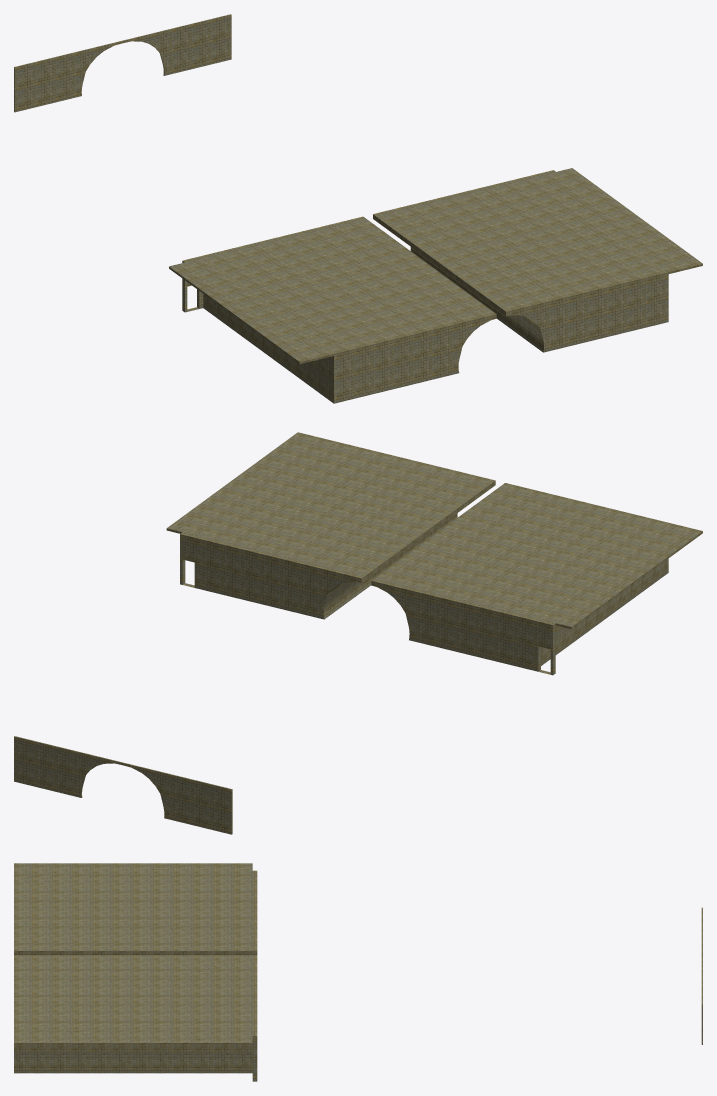
File: MidTunnelWalls.fbx
3 views of the same model, one above another, from view 1: azimuth 30°, elevation 25°; view 2: azimuth 150°, elevation 25°; view 3: azimuth 270°, elevation 25° (orthographic). The views are drawn at different scales.
Visible parts, largest first — view 1: Plane, Cube; view 2: Plane, Cube; view 3: Plane.
Boxes of the visible parts, x1=… form: Plane: x1=169, y1=168, x2=702, y2=403; Cube: x1=14, y1=14, x2=231, y2=112; Plane: x1=166, y1=432, x2=702, y2=675; Cube: x1=14, y1=736, x2=232, y2=834; Plane: x1=14, y1=863, x2=257, y2=1081.
Size of the model in its own units: 5424 by 643 by 8790.
